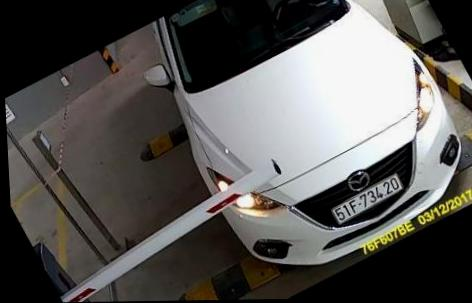License_Plate: (326, 173, 409, 227)
